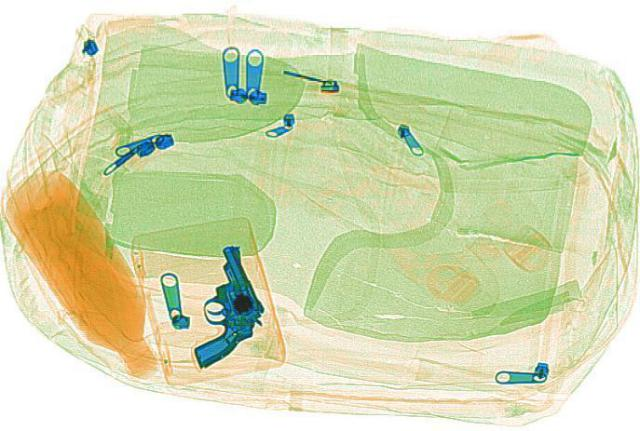Gun: (190, 244, 264, 369)
